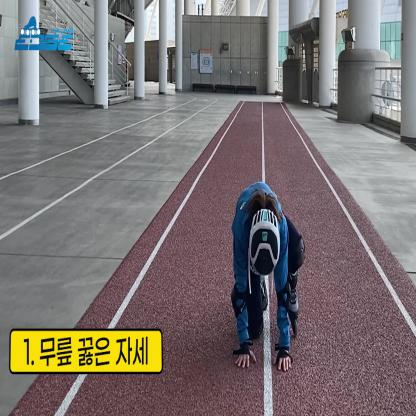Fall_Down: (231, 182, 308, 373)
